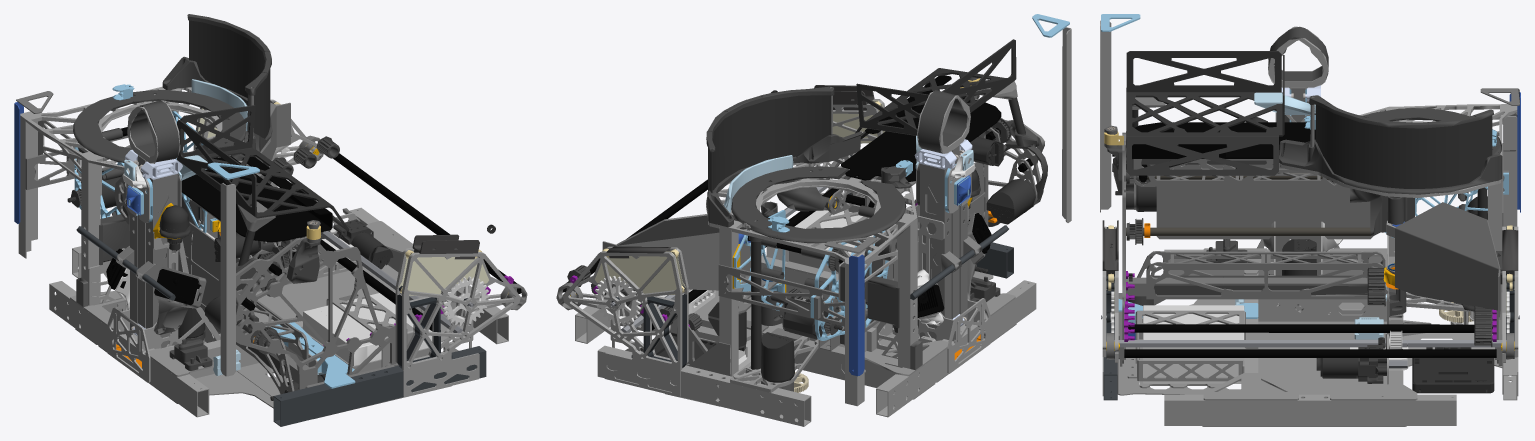
Rendered from 1690-body.glb.
3 renders of one model, left to right at view 1: azimuth 30°, elevation 25°; view 2: azimuth 150°, elevation 25°; view 3: azimuth 270°, elevation 25°, orthographic.
Visible parts, largest first — view 1: Part 39, Part 36, 1690-26-411-08A, Part 8, 1690-26-411-01A, 1690-26-423-09A, Part 58, Part 38, Robot Battery, 1690-26-210-05A, Part 53, Part 27 (+8 smaller); view 2: Part 39, 1690-26-411-08A, Part 36, Part 8, 1690-26-411-01A, 1690-26-423-09A, Part 38, 1690-26-210-05A, Part 53, Part 40, Part 58, 1690-26-214-02A (+7 smaller); view 3: Part 36, 1690-26-411-08A, Part 39, Part 8, 1690-26-411-01A, 1690-26-423-09A, Robot Battery, id2909, 1690-26-212-01A, 1690-26-313-09A, Part 38, 1690-26-210-07A (+8 smaller).
Part boxes in pixels (x1=…): Part 39: x1=18, y1=86, x2=520, y2=417; Part 36: x1=16, y1=87, x2=527, y2=393; 1690-26-411-08A: x1=67, y1=20, x2=495, y2=400; Part 8: x1=38, y1=14, x2=339, y2=378; 1690-26-411-01A: x1=70, y1=221, x2=488, y2=419; 1690-26-423-09A: x1=106, y1=116, x2=521, y2=330; Part 58: x1=76, y1=226, x2=486, y2=426; Part 38: x1=74, y1=84, x2=355, y2=388; Robot Battery: x1=303, y1=293, x2=432, y2=365; 1690-26-210-05A: x1=197, y1=108, x2=488, y2=295; Part 53: x1=114, y1=145, x2=489, y2=325; Part 27: x1=124, y1=79, x2=323, y2=375; Part 39: x1=563, y1=27, x2=1071, y2=426; 1690-26-411-08A: x1=708, y1=39, x2=1035, y2=382; Part 36: x1=556, y1=81, x2=1044, y2=376; Part 8: x1=567, y1=86, x2=1047, y2=344; 1690-26-411-01A: x1=595, y1=202, x2=1016, y2=406; 1690-26-423-09A: x1=562, y1=75, x2=1033, y2=330; Part 38: x1=734, y1=14, x2=1069, y2=340; 1690-26-210-05A: x1=595, y1=100, x2=885, y2=294; Part 53: x1=594, y1=150, x2=975, y2=370; Part 40: x1=738, y1=175, x2=970, y2=376; Part 58: x1=910, y1=225, x2=1013, y2=300; 1690-26-214-02A: x1=611, y1=155, x2=851, y2=367; Part 36: x1=1106, y1=87, x2=1519, y2=366; 1690-26-411-08A: x1=1115, y1=51, x2=1492, y2=378; Part 39: x1=1100, y1=20, x2=1518, y2=425; Part 8: x1=1107, y1=26, x2=1517, y2=349; 1690-26-411-01A: x1=1109, y1=128, x2=1502, y2=426; 1690-26-423-09A: x1=1112, y1=122, x2=1496, y2=357; Robot Battery: x1=1143, y1=305, x2=1244, y2=383; id2909: x1=1412, y1=347, x2=1494, y2=393; 1690-26-212-01A: x1=1101, y1=315, x2=1519, y2=368; 1690-26-313-09A: x1=1126, y1=173, x2=1370, y2=235; Part 38: x1=1101, y1=14, x2=1508, y2=324; 1690-26-210-07A: x1=1102, y1=220, x2=1518, y2=275.
Bounding box in the file's own units: 0.6415 × 0.5131 × 0.7496.
